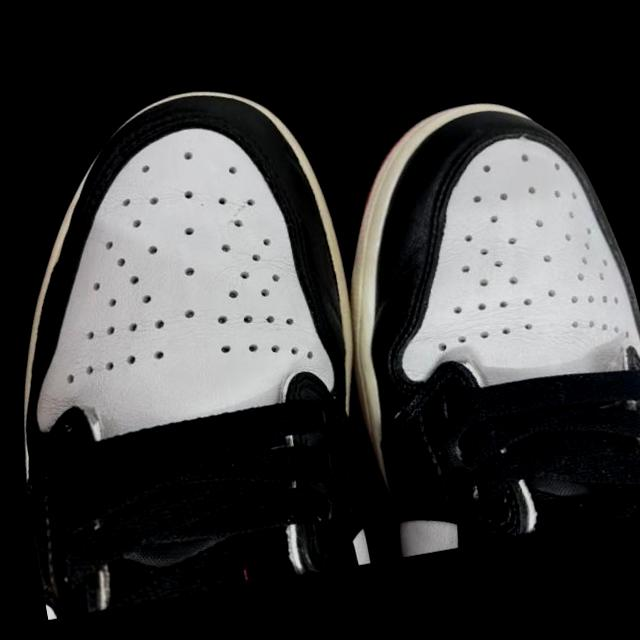nike_original_jordan: (0, 68, 393, 618), (308, 73, 640, 562)
